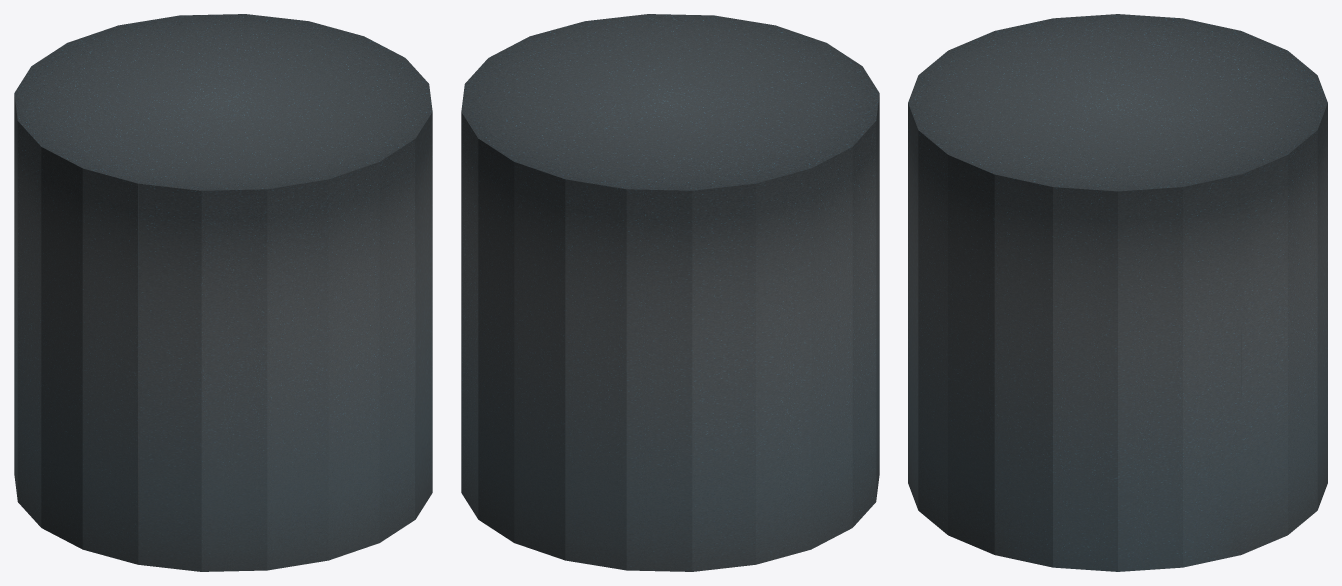
The model's file is Room.obj.
3 views of the same model, side by side, from view 1: azimuth 30°, elevation 25°; view 2: azimuth 150°, elevation 25°; view 3: azimuth 270°, elevation 25° (orthographic).
Parts seen in each view (by area): view 1: Cylinder_Cylinder.002; view 2: Cylinder_Cylinder.002; view 3: Cylinder_Cylinder.002.
Part boxes in pixels (left/top/right/bottom): Cylinder_Cylinder.002: left=14, top=14, right=432, bottom=571; Cylinder_Cylinder.002: left=461, top=14, right=879, bottom=571; Cylinder_Cylinder.002: left=908, top=14, right=1327, bottom=571.
Size of the model in its own units: 2 by 2 by 2.
Materials: 1 (1 with a texture image).
